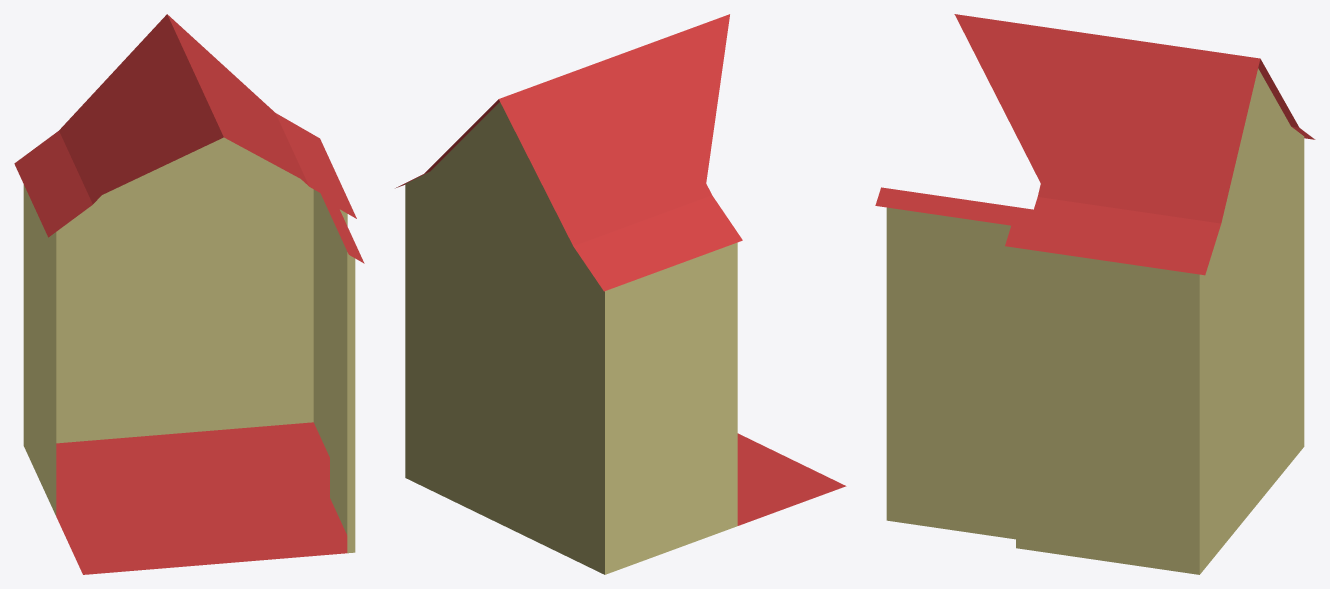
The picture shows the model from 3 angles, left to right: view 1: azimuth 30°, elevation 25°; view 2: azimuth 150°, elevation 25°; view 3: azimuth 270°, elevation 25°; orthographic projection. The views are drawn at different scales.
Bounding box in the file's own units: 12 × 12.43 × 14.13.
